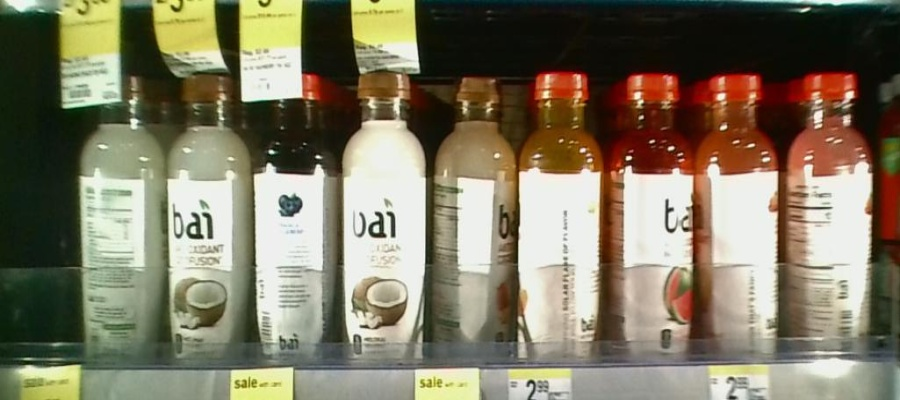bottle: (781, 68, 876, 360), (71, 71, 163, 360), (251, 72, 341, 365), (343, 65, 430, 361), (432, 71, 518, 361), (695, 66, 779, 360), (608, 69, 689, 367), (165, 74, 248, 363), (522, 73, 604, 364)
